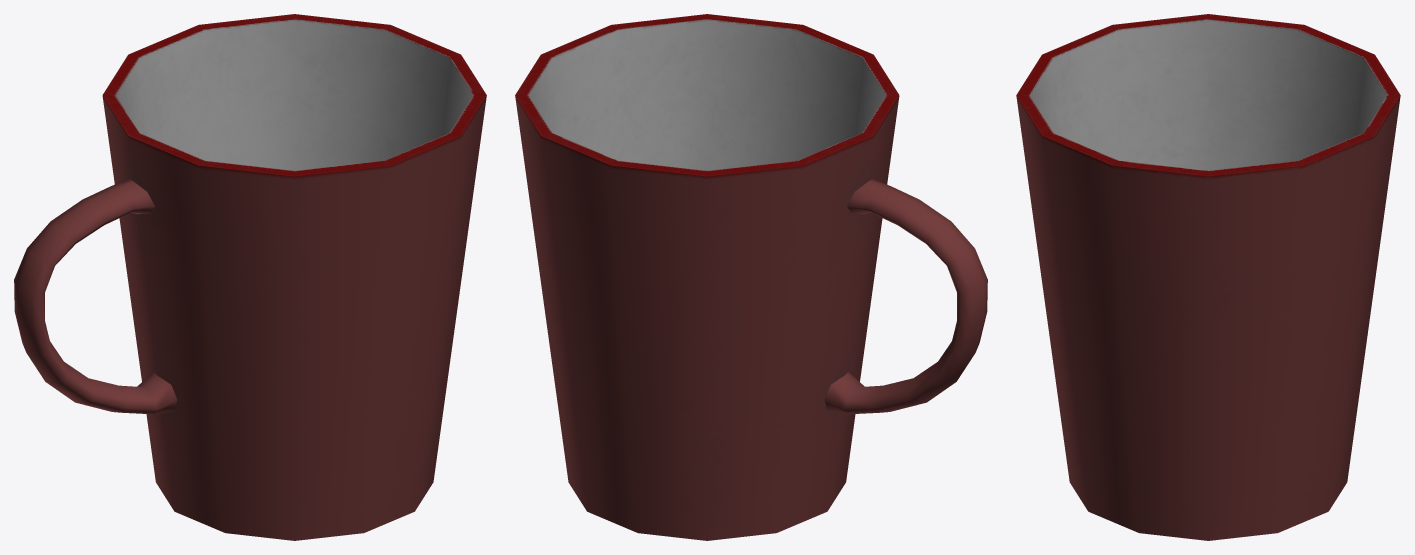
Rendered from CupA.fbx.
The picture shows the model from 3 angles, left to right: view 1: azimuth 30°, elevation 25°; view 2: azimuth 150°, elevation 25°; view 3: azimuth 270°, elevation 25°; orthographic projection.
Parts seen in each view (by area): view 1: CupA; view 2: CupA; view 3: CupA.
Part boxes in pixels (left/top/right/bottom): CupA: left=14, top=14, right=486, bottom=540; CupA: left=515, top=14, right=987, bottom=540; CupA: left=1016, top=14, right=1400, bottom=540.
Bounding box in the file's own units: 11.99 × 10 × 9.
